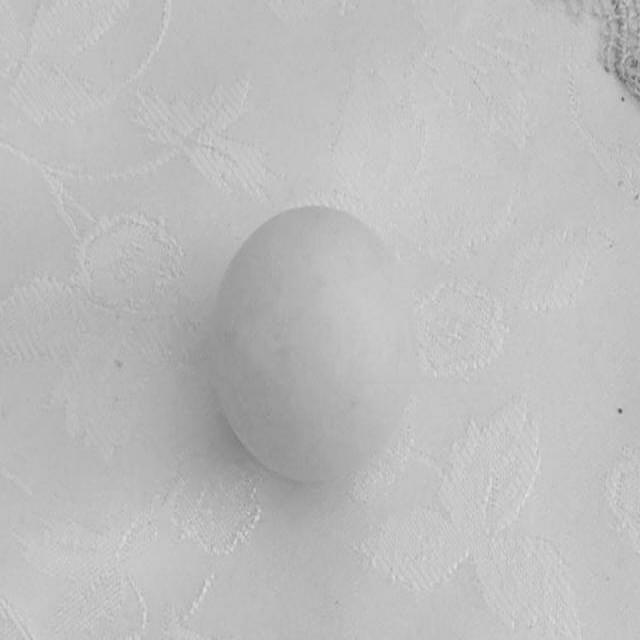ping-pong-ball: (216, 214, 414, 482)
